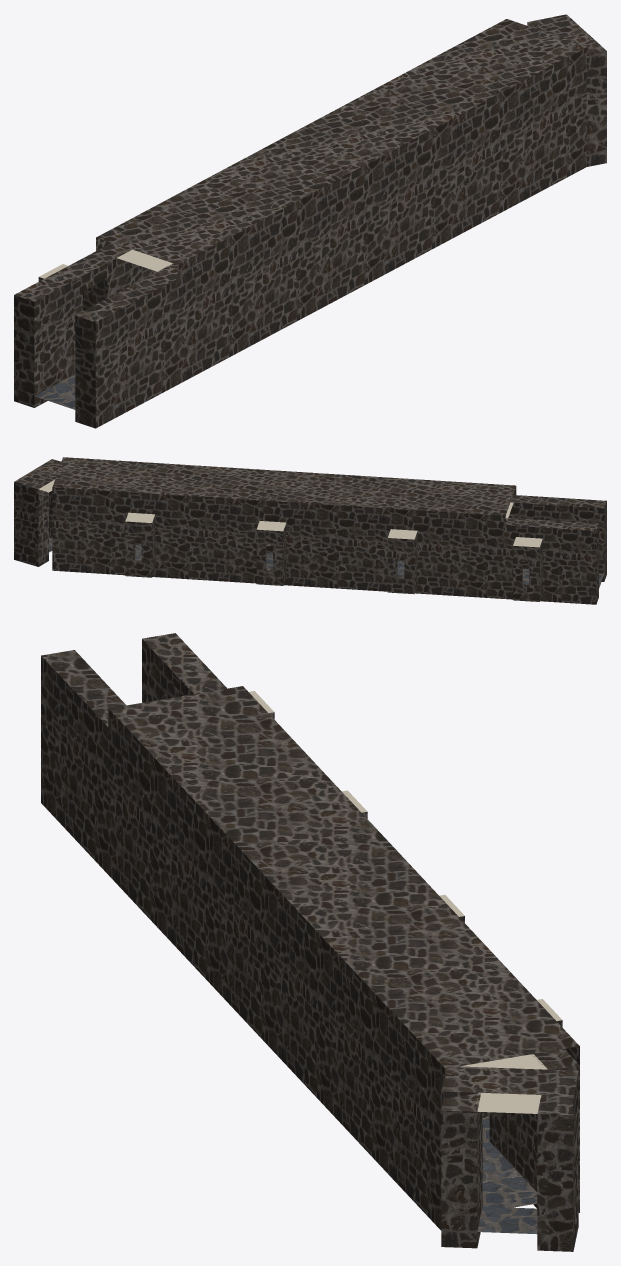
File: muurikaytava.glb
The picture shows the model from 3 angles, top to bottom: view 1: azimuth 30°, elevation 25°; view 2: azimuth 150°, elevation 25°; view 3: azimuth 270°, elevation 25°; orthographic projection. The views are drawn at different scales.
Visible parts, largest first — view 1: muurikaytava_architecture; view 2: muurikaytava_architecture; view 3: muurikaytava_architecture.
Part boxes in pixels (left/top/right/bottom): muurikaytava_architecture: left=14, top=14, right=606, bottom=428; muurikaytava_architecture: left=14, top=457, right=606, bottom=604; muurikaytava_architecture: left=41, top=633, right=579, bottom=1251.
Bounding box in the file's own units: 18.5 × 3.05 × 8.94.
3 materials, 2 textured.
